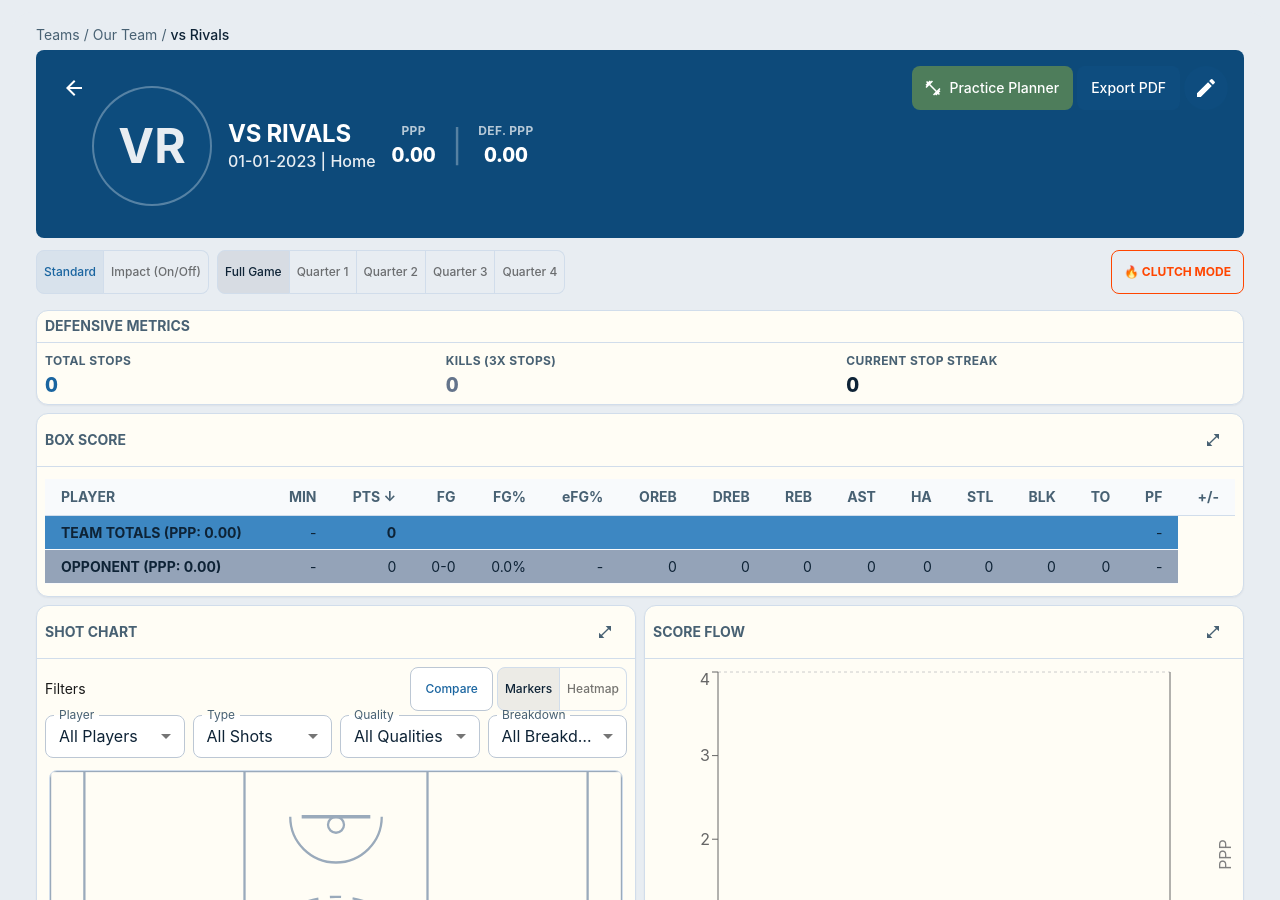
GameStats Page › opens expanded section dialog for boxScore
# Expand box score section (first expand button)
Click the button named "expand" in the row of "Box Score" at (1213, 440), box [1191,418,1235,462]
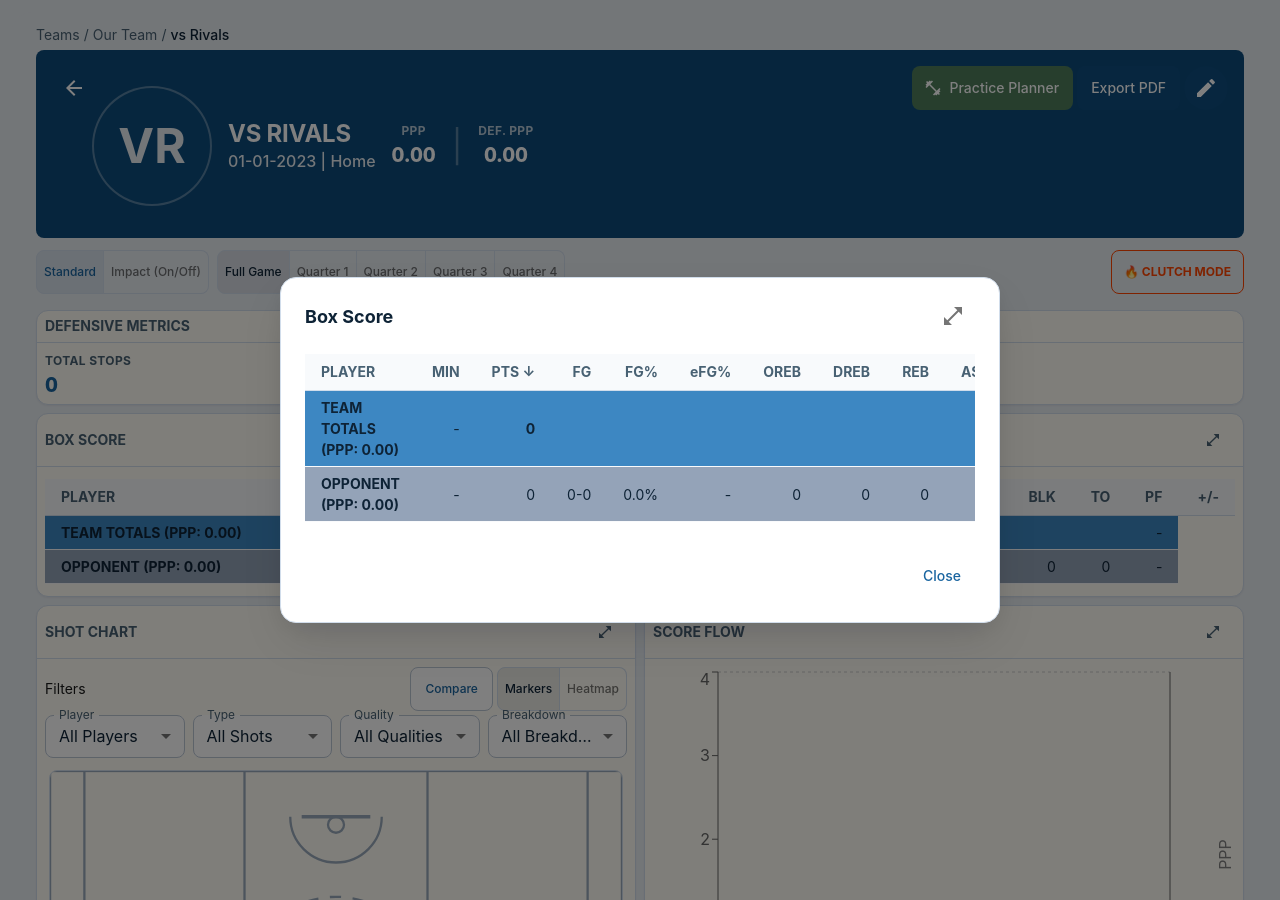
Now the dialog is shown, box [280,277,1000,623]
# Close dialog
Click the button "Close" at (942, 576), box [909,554,975,598]
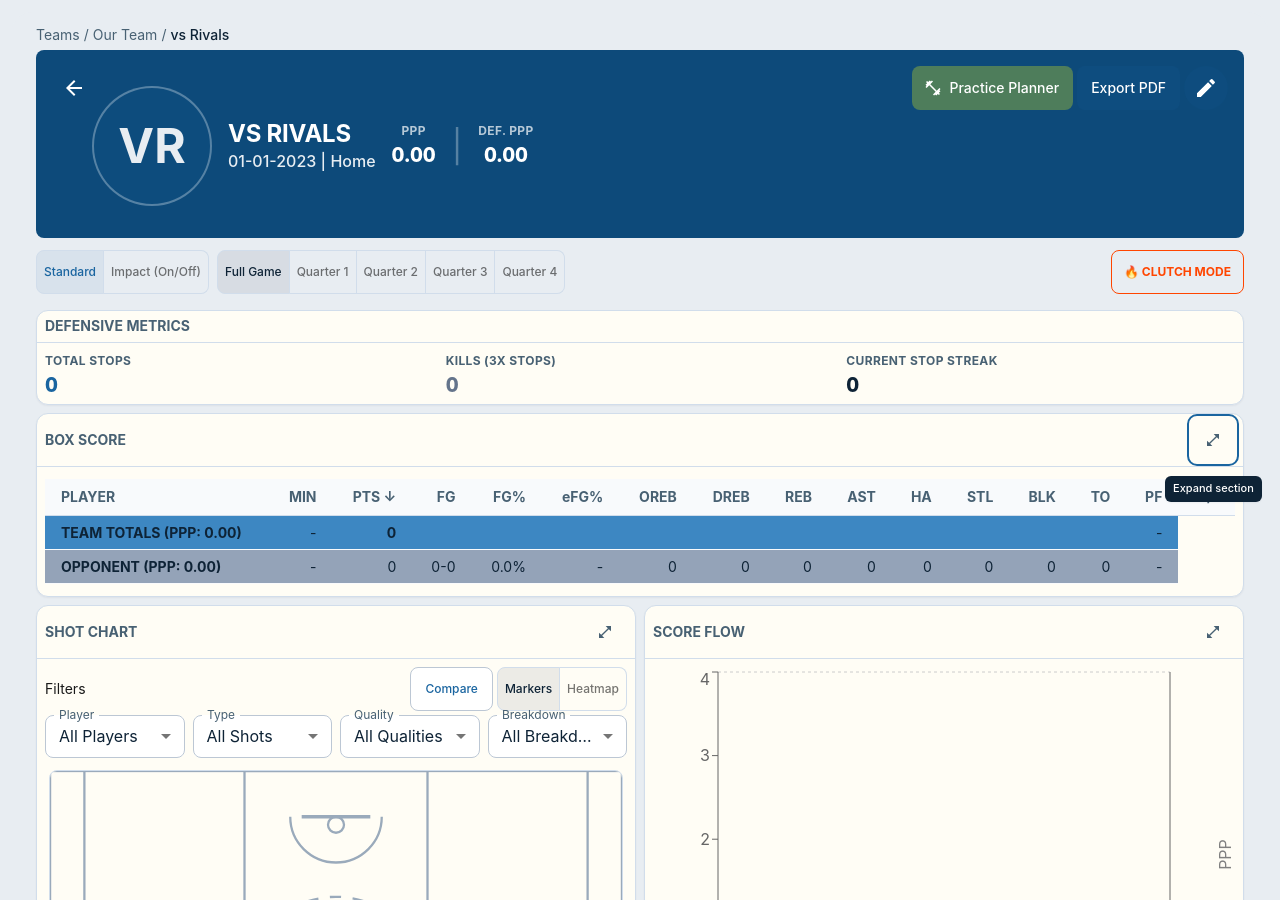
Now the dialog is gone
